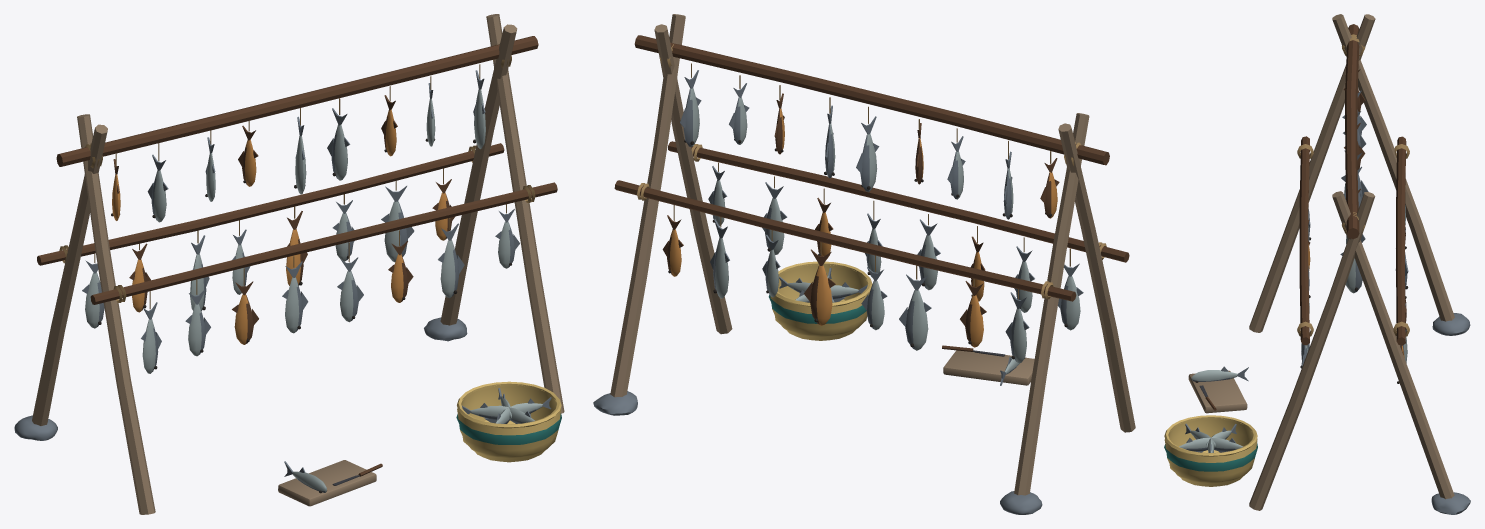
File: deco_fish_rack.fbx
The picture shows the model from 3 angles, left to right: view 1: azimuth 30°, elevation 25°; view 2: azimuth 150°, elevation 25°; view 3: azimuth 270°, elevation 25°; orthographic projection. The views are drawn at different scales.
Parts seen in each view (by area): view 1: FishRack_Frame, FishRack_Fish, FishRack_Catch; view 2: FishRack_Frame, FishRack_Fish, FishRack_Catch; view 3: FishRack_Frame, FishRack_Catch, FishRack_Fish.
Part boxes in pixels (x1,y1,x2,y2): FishRack_Frame: (14, 14, 564, 514); FishRack_Fish: (82, 64, 519, 373); FishRack_Catch: (278, 381, 561, 506); FishRack_Frame: (593, 14, 1135, 514); FishRack_Fish: (662, 63, 1083, 363); FishRack_Catch: (768, 261, 1034, 385); FishRack_Frame: (1249, 14, 1470, 514); FishRack_Catch: (1164, 366, 1257, 486); FishRack_Fish: (1300, 69, 1408, 383).
Size of the model in its own units: 360 by 258 by 226.
